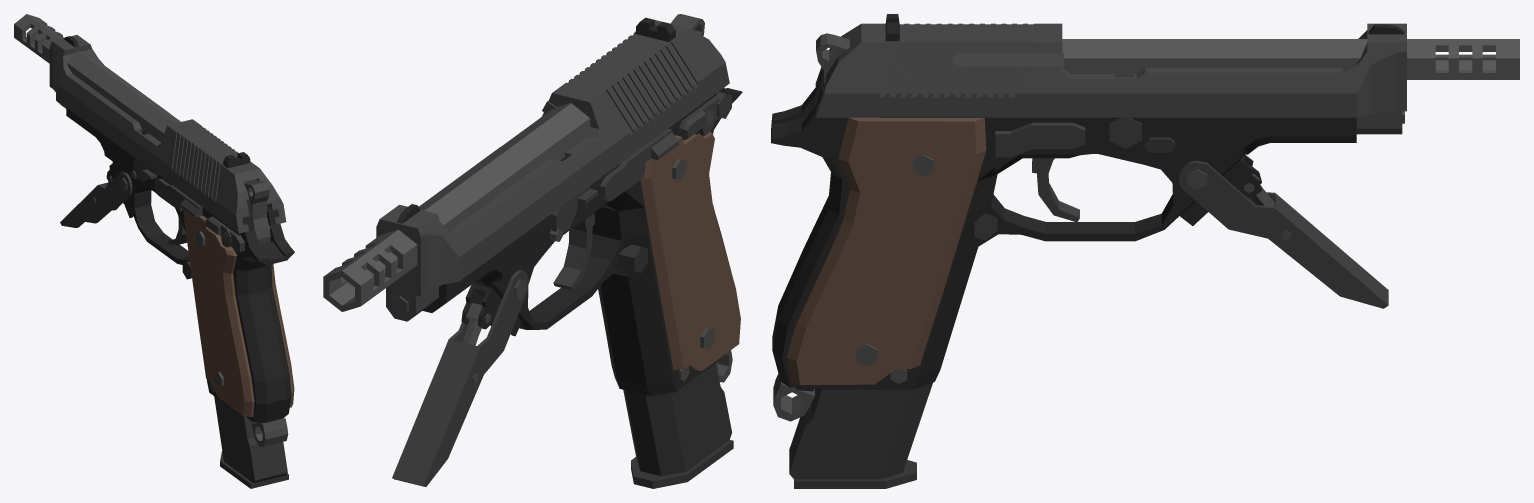
Rendered from gun_pistol_auto.glb.
3 renders of one model, left to right at view 1: azimuth 30°, elevation 25°; view 2: azimuth 150°, elevation 25°; view 3: azimuth 270°, elevation 25°, orthographic. The views are drawn at different scales.
Parts seen in each view (by area): view 1: Object_25_baked, Object_29_baked, Object_32_baked, Object_31_baked, Object_27_baked, Object_26_baked, Object_28_baked, Object_30_baked; view 2: Object_25_baked, Object_29_baked, Object_32_baked, Object_27_baked, Object_31_baked, Object_26_baked, Object_28_baked, Object_30_baked; view 3: Object_25_baked, Object_32_baked, Object_29_baked, Object_31_baked, Object_26_baked, Object_27_baked, Object_28_baked, Object_30_baked.
Part boxes in pixels (x1,y1,x2,y2): Object_25_baked: [49, 35, 286, 233]; Object_29_baked: [63, 36, 294, 423]; Object_32_baked: [184, 210, 294, 417]; Object_31_baked: [14, 14, 180, 142]; Object_27_baked: [60, 158, 244, 252]; Object_26_baked: [182, 261, 288, 488]; Object_28_baked: [92, 170, 288, 446]; Object_30_baked: [106, 180, 270, 244]; Object_25_baked: [376, 20, 729, 321]; Object_29_baked: [397, 17, 742, 395]; Object_32_baked: [598, 131, 740, 371]; Object_27_baked: [392, 92, 731, 486]; Object_31_baked: [323, 103, 590, 311]; Object_26_baked: [618, 244, 733, 488]; Object_28_baked: [466, 100, 732, 383]; Object_30_baked: [392, 14, 704, 345]; Object_25_baked: [815, 23, 1406, 134]; Object_32_baked: [786, 117, 986, 384]; Object_29_baked: [771, 14, 1404, 391]; Object_31_baked: [1062, 39, 1519, 79]; Object_26_baked: [789, 137, 1174, 488]; Object_27_baked: [995, 117, 1388, 308]; Object_28_baked: [773, 53, 1290, 421]; Object_30_baked: [812, 33, 1404, 206].
Bounding box in the file's own units: 0.031 × 0.1608 × 0.24.
